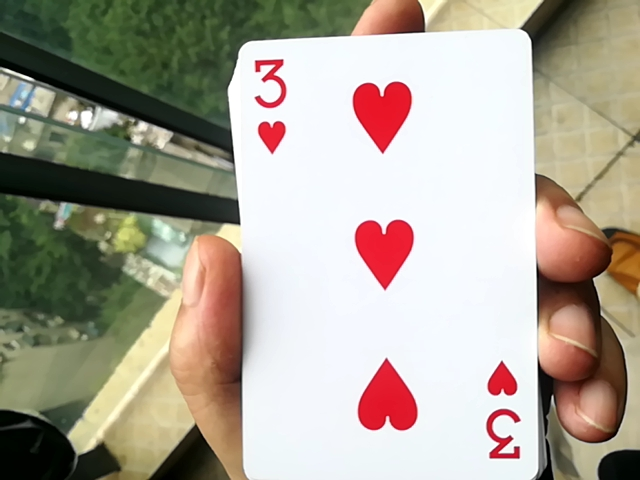hx 3: (216, 40, 552, 480)
